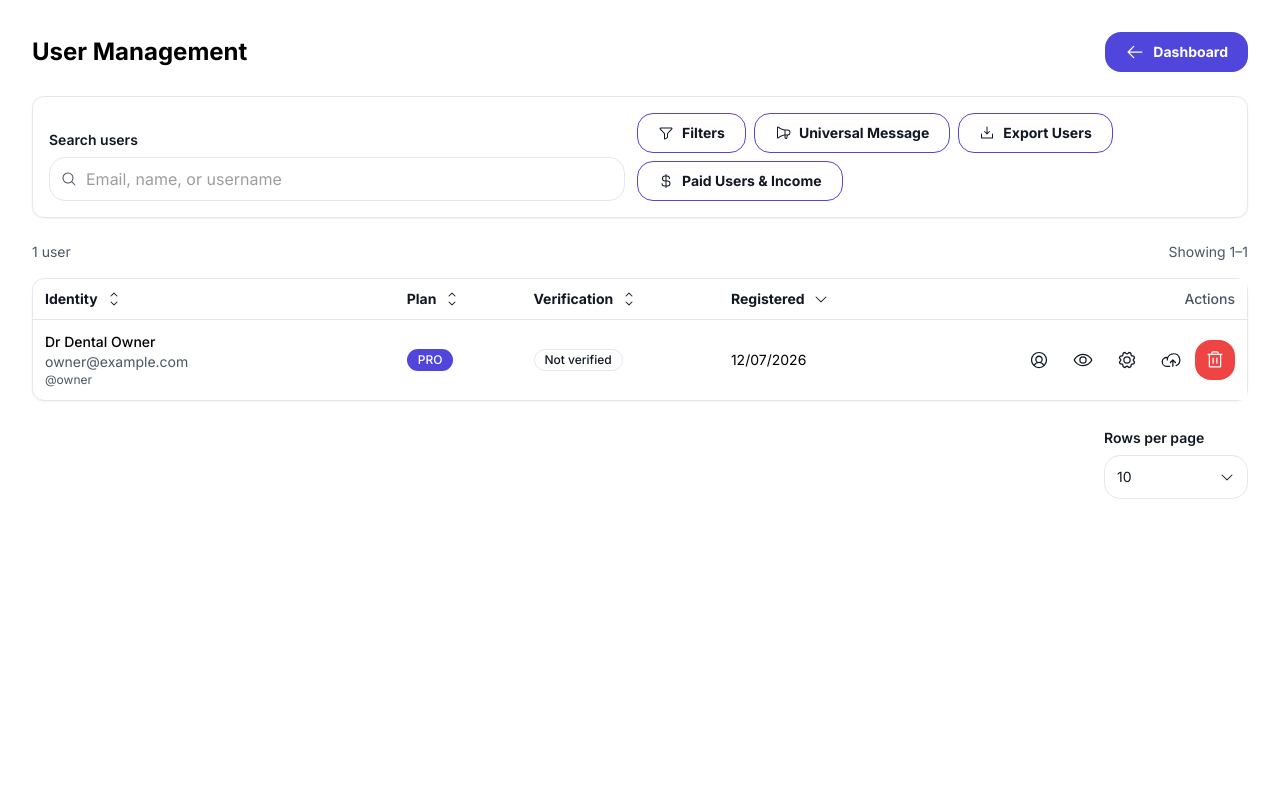
UsersManagement › shows active advanced filters and opens a read-only account summary
Expected: the text "owner@example.com" is shown, [45,352,188,370]
Click the button "Filters" at (691, 133), box [637,113,746,153]
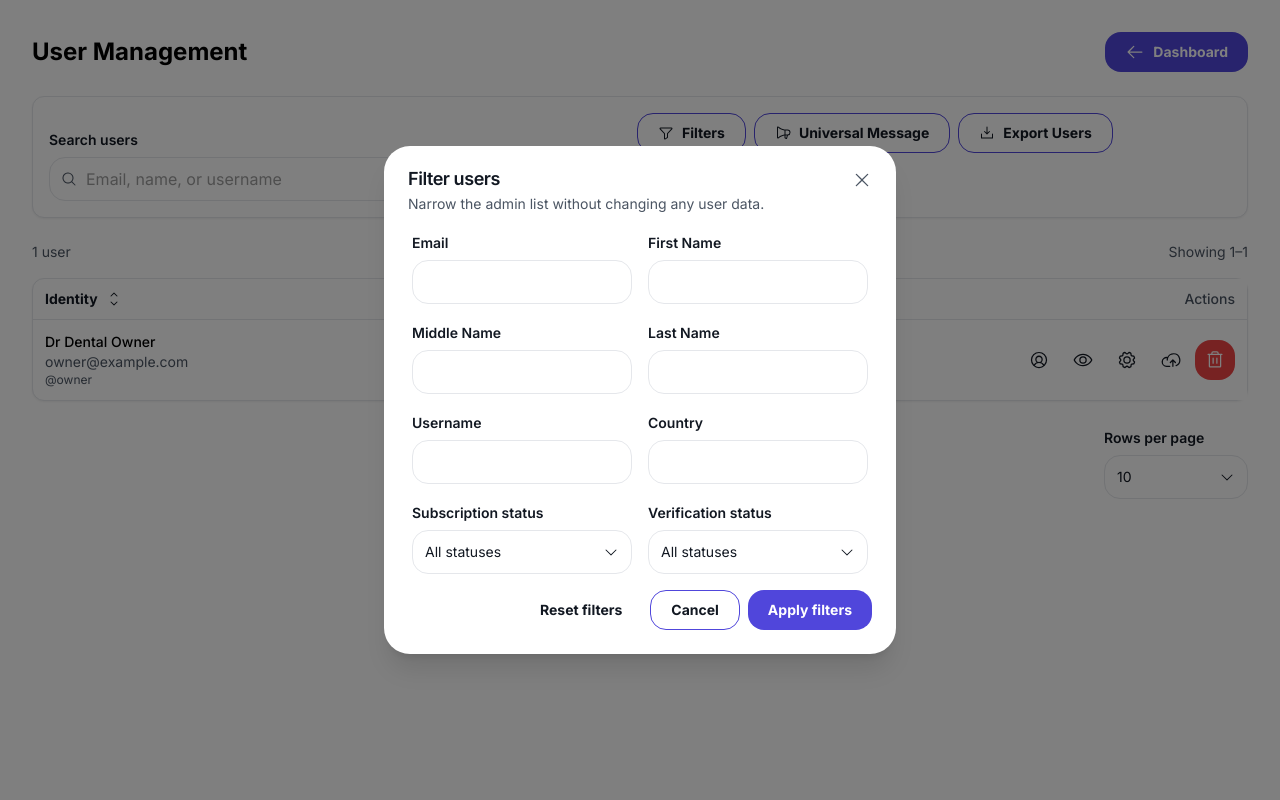
Type "Egypt" into the field with id "filter-country" at (758, 462), box [648,440,868,484]
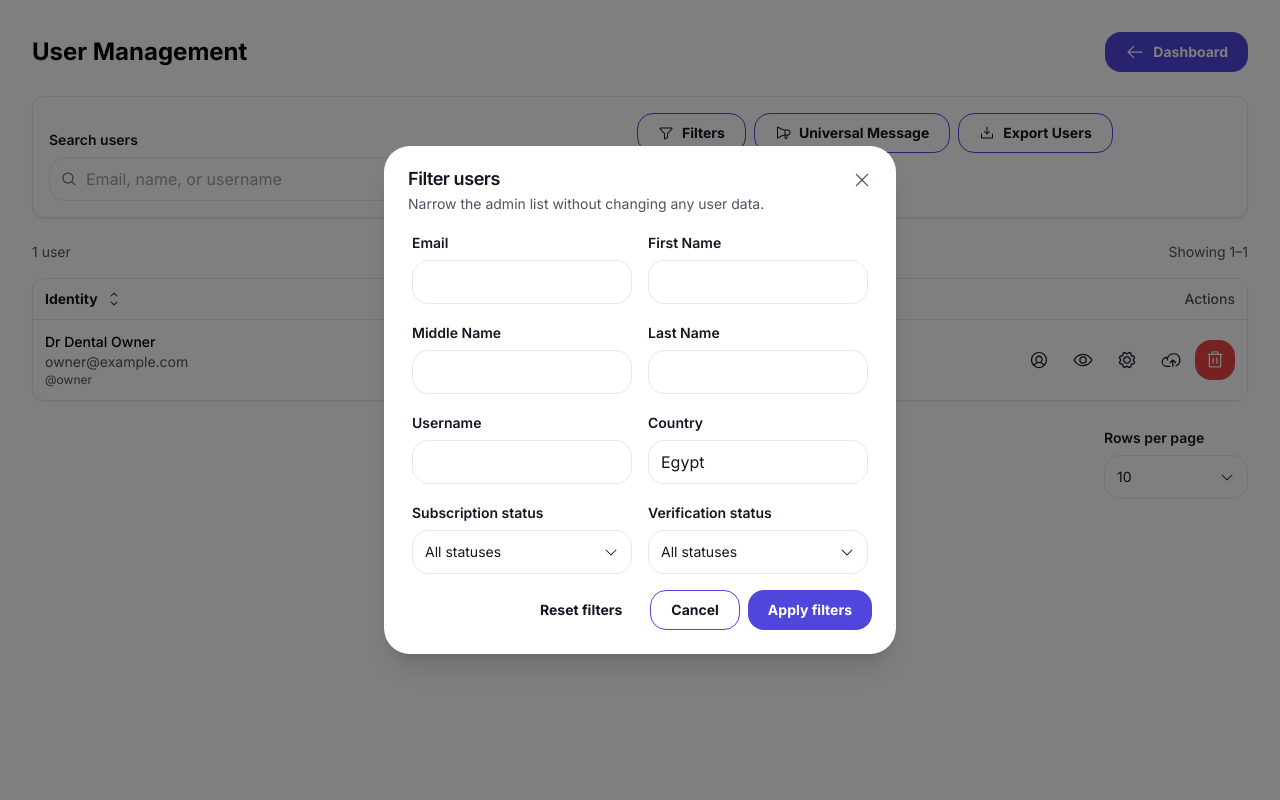
Click the button "Apply filters" at (810, 610), box [748,590,872,630]
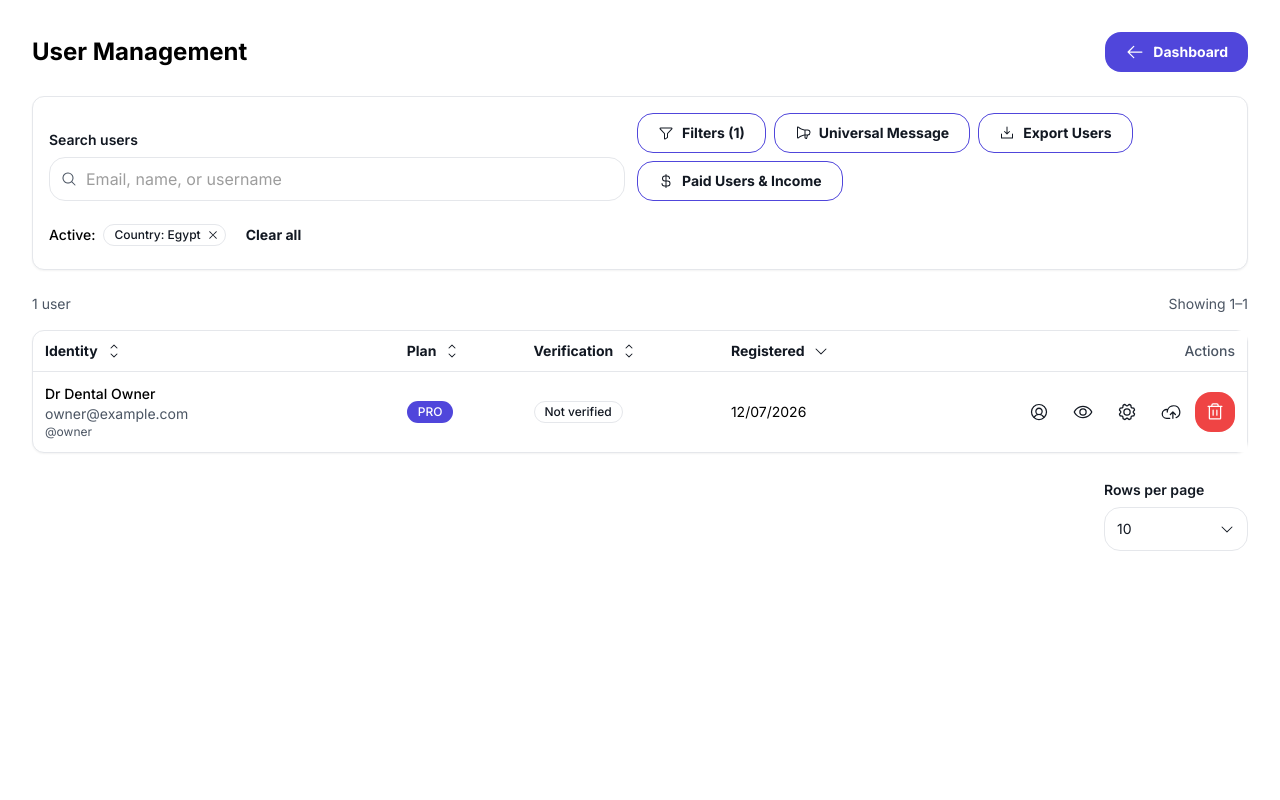
Now the text "Country: Egypt" is shown, box [104,224,226,246]
Now the button named "Remove Country filter" is shown, box [205,227,221,243]
Click the button named "View account details for owner@example.com" at (1039, 412), box [1019,392,1059,432]
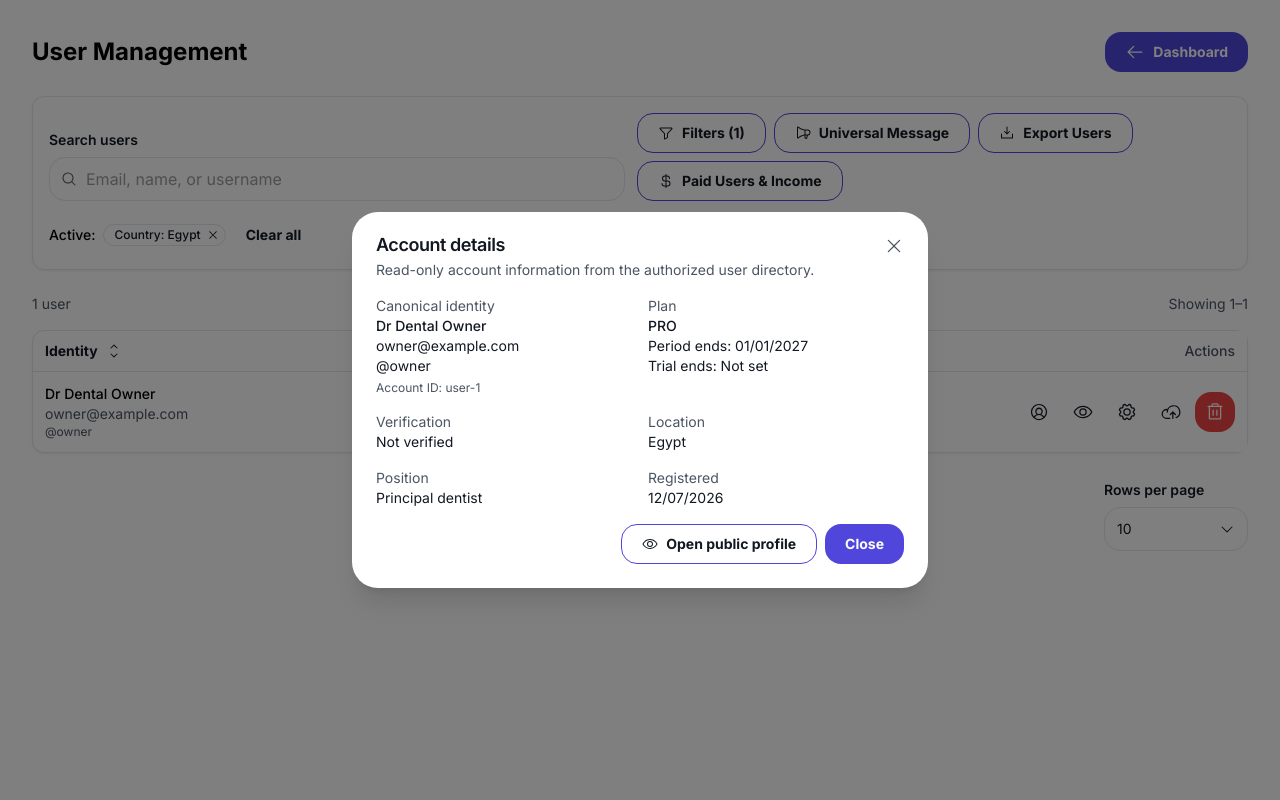
Now the dialog "Account details" shows "Dr Dental Owner", box [376,317,486,334]
Now the dialog "Account details" shows "Principal dentist", box [376,489,482,506]
Now the dialog "Account details" shows "Egypt", box [648,433,686,450]
